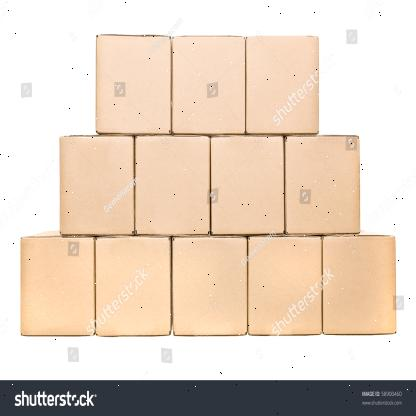box: (58, 134, 134, 236), (322, 234, 398, 335), (19, 235, 94, 336), (96, 36, 172, 134), (173, 236, 248, 335), (136, 135, 210, 235), (286, 134, 360, 234), (173, 33, 246, 134), (210, 134, 284, 233), (96, 236, 170, 335), (244, 35, 318, 132), (249, 236, 322, 334)
